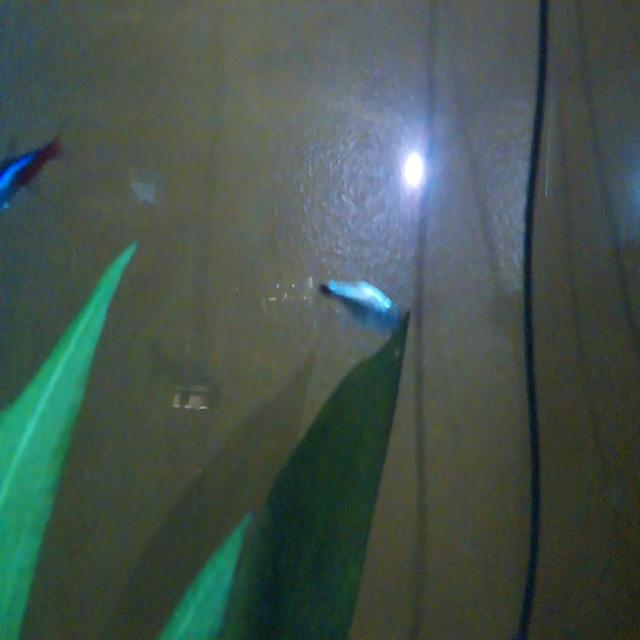fish: (318, 270, 403, 337)
